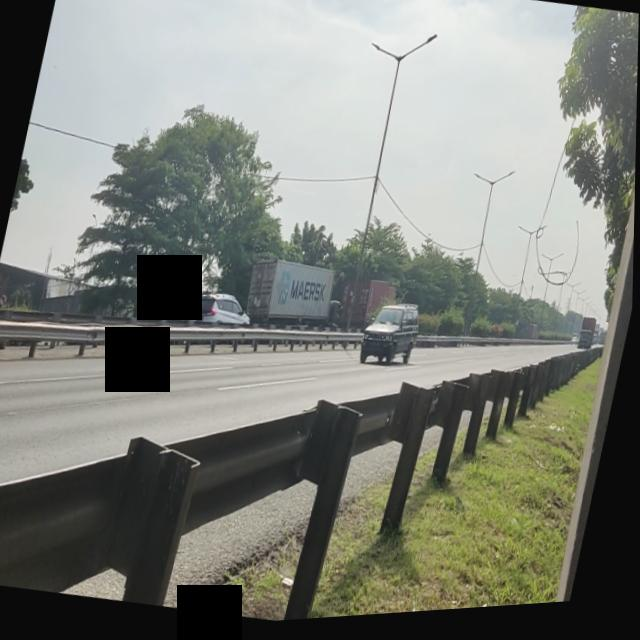Golongan I: (353, 299, 428, 386)
